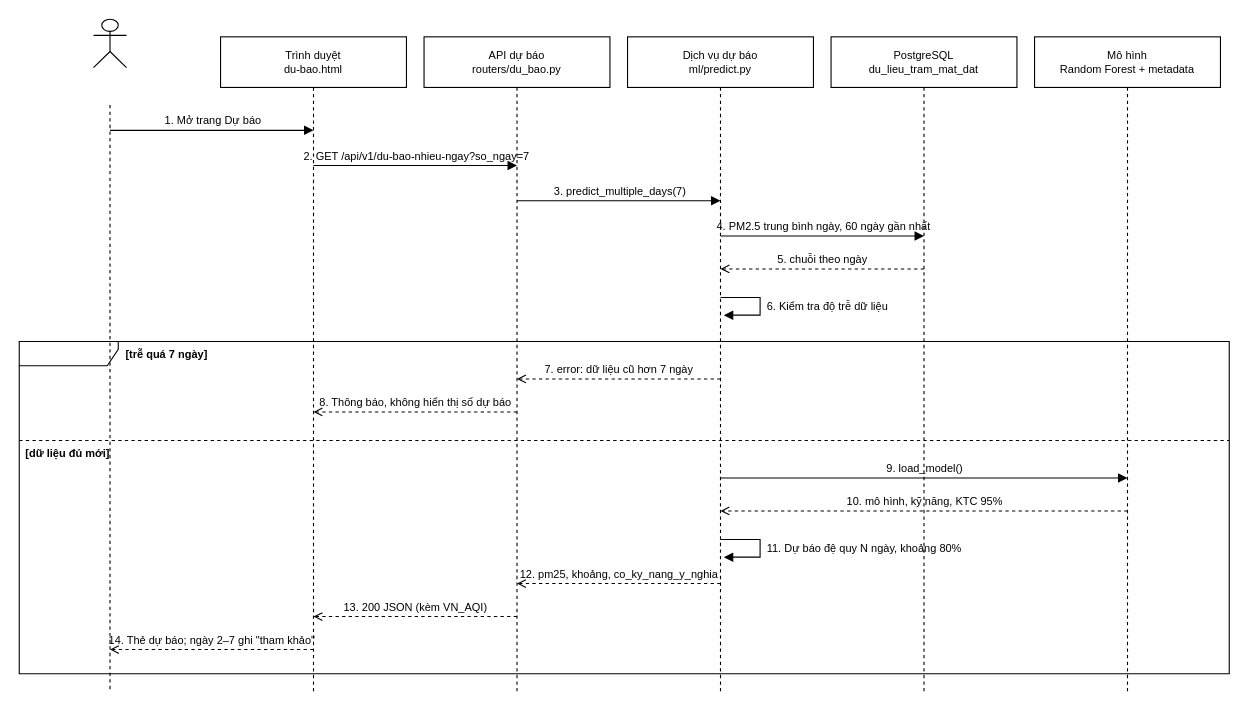
Some shapes in this 1250 by 712 pixel diagram are drawn without their labels. Each missing label, with the box of its shape:
alt: (18, 340, 1229, 674)
Người dùng: (92, 18, 127, 68)
